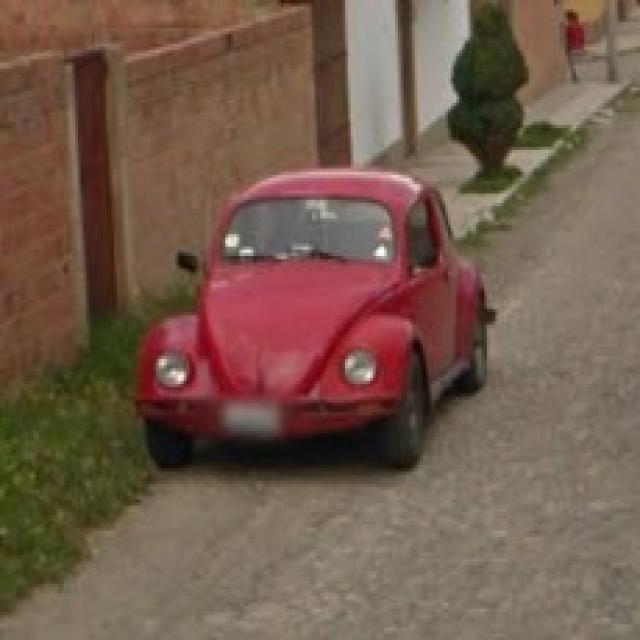car: (139, 172, 480, 448)
